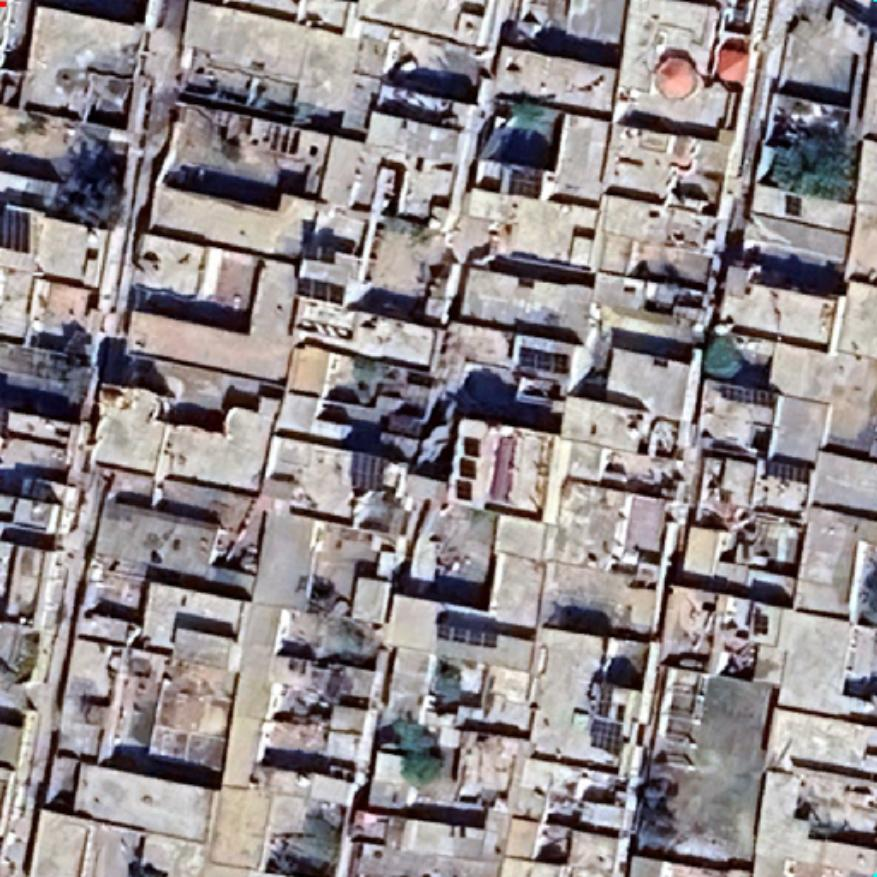Solarpanel: (434, 616, 502, 652), (345, 446, 391, 496), (514, 341, 574, 379), (716, 379, 780, 411), (0, 202, 36, 258), (294, 273, 348, 309), (500, 162, 548, 202), (761, 456, 821, 487), (586, 713, 628, 756), (298, 239, 340, 266)
